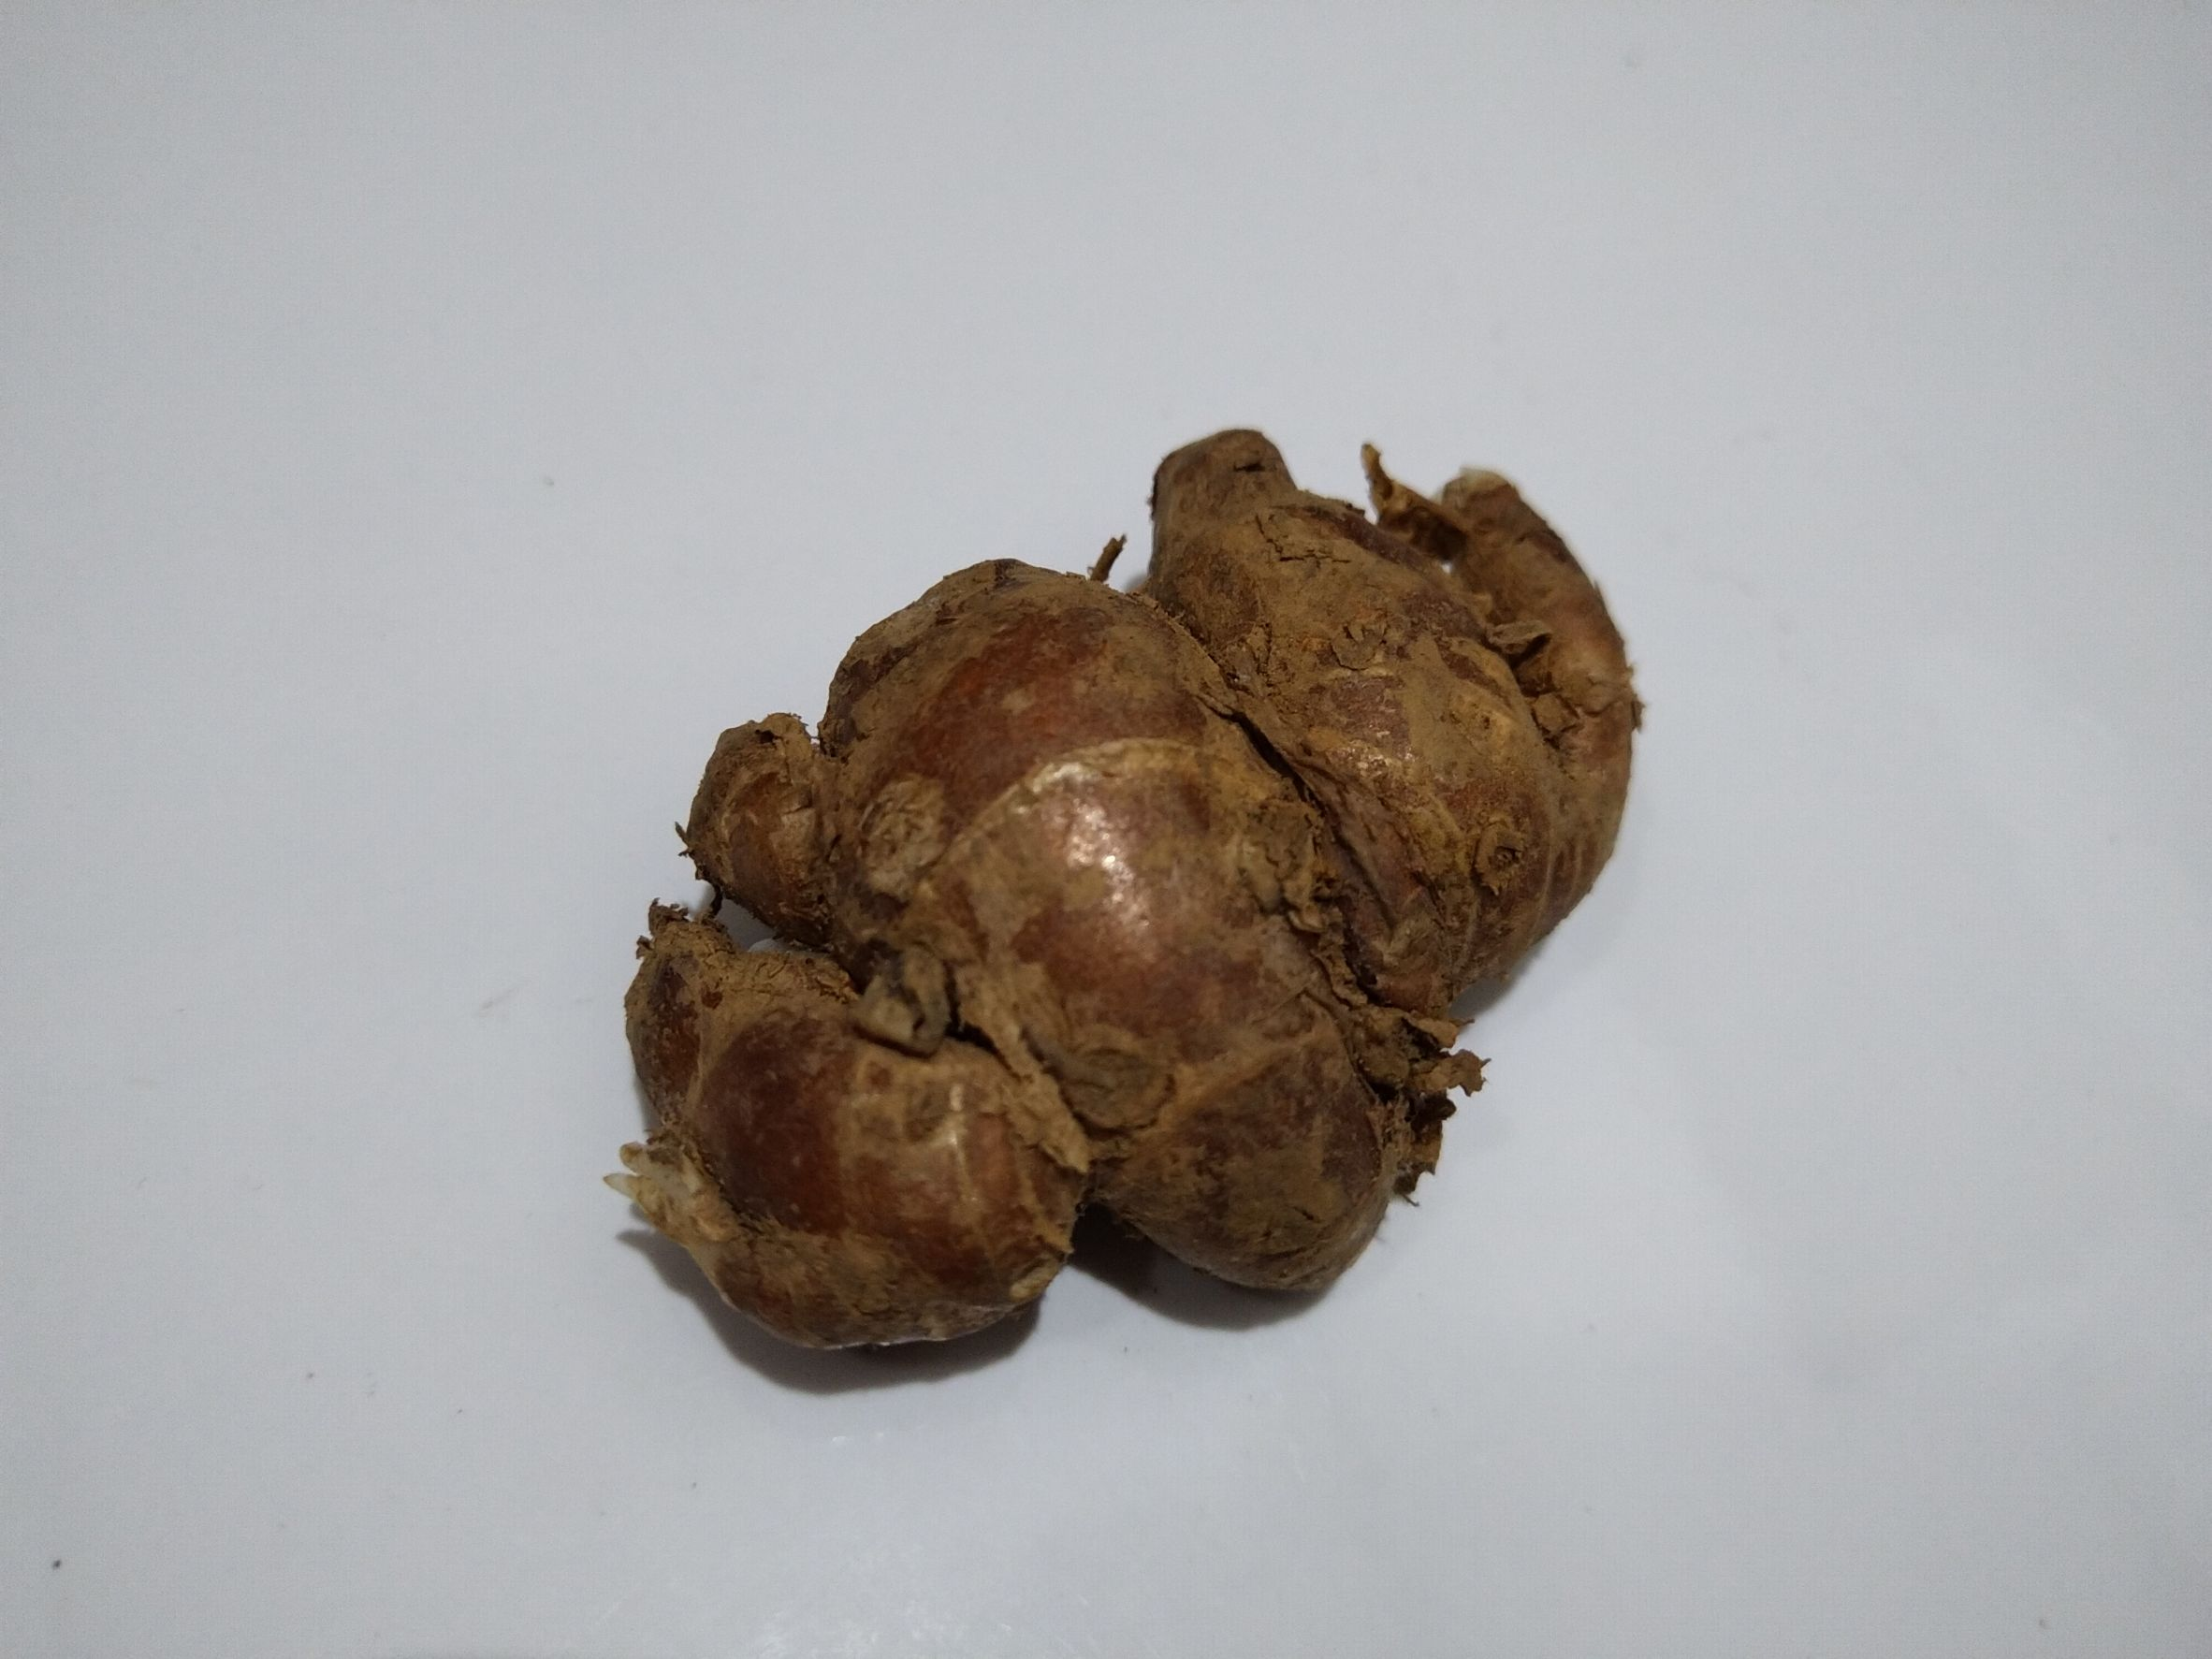Kencur: (632, 450, 1662, 1364)
